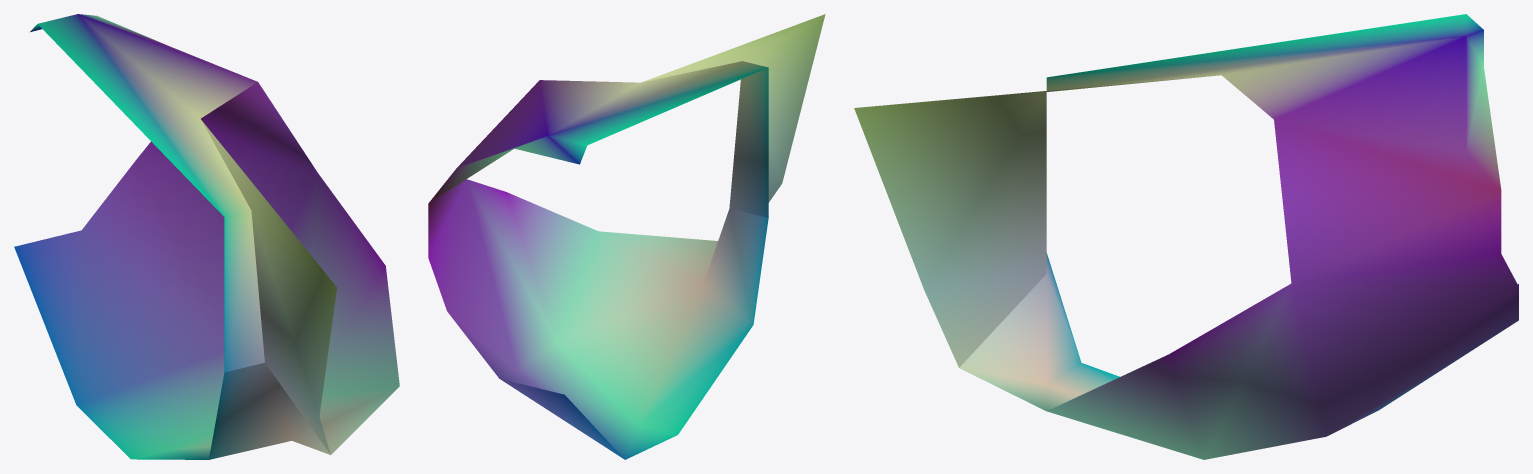
3 views of the same model, side by side, from view 1: azimuth 30°, elevation 25°; view 2: azimuth 150°, elevation 25°; view 3: azimuth 270°, elevation 25° (orthographic). The views are drawn at different scales.
Parts seen in each view (by area): view 1: part; view 2: part; view 3: part.
Boxes of the visible parts, x1=… form: part: x1=14, y1=14, x2=399, y2=459; part: x1=428, y1=14, x2=825, y2=459; part: x1=854, y1=14, x2=1518, y2=459.
Size of the model in its own units: 16 by 26 by 38.
